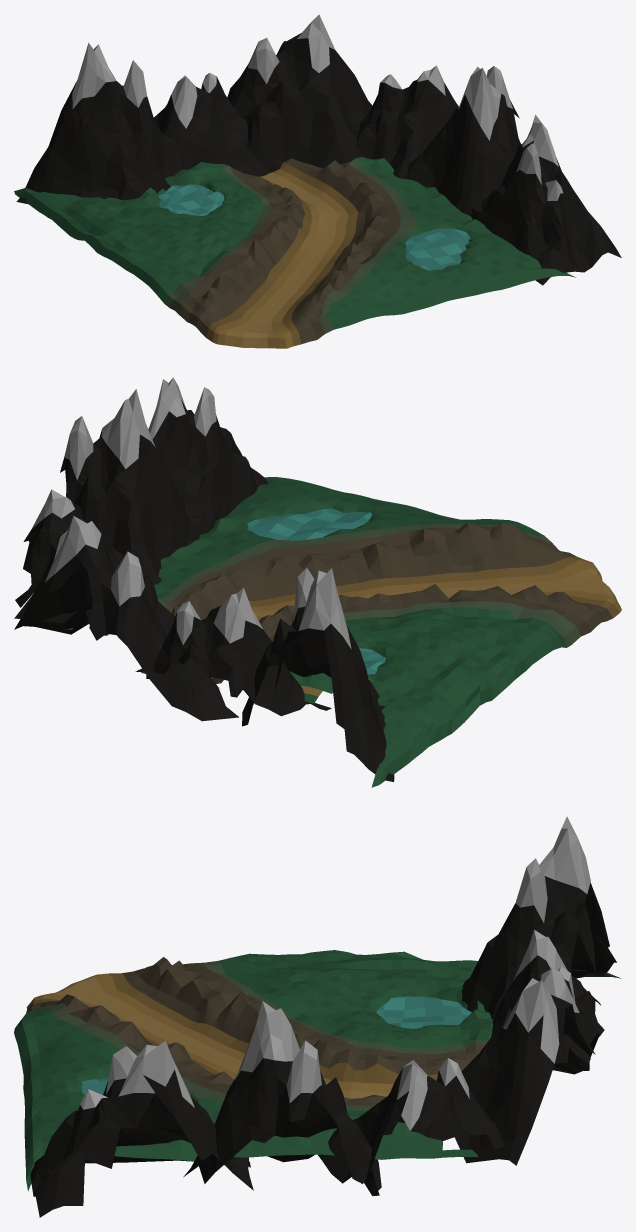
The model's file is lekker wereldjte.FBX.
The picture shows the model from 3 angles, top to bottom: view 1: azimuth 30°, elevation 25°; view 2: azimuth 150°, elevation 25°; view 3: azimuth 270°, elevation 25°; orthographic projection. The views are drawn at different scales.
Visible parts, largest first — view 1: Plane005-retopo 1-reduced1-retopo 1; view 2: Plane005-retopo 1-reduced1-retopo 1; view 3: Plane005-retopo 1-reduced1-retopo 1.
Part boxes in pixels (x1,y1,x2,y2): Plane005-retopo 1-reduced1-retopo 1: [14, 14, 621, 348]; Plane005-retopo 1-reduced1-retopo 1: [14, 377, 621, 787]; Plane005-retopo 1-reduced1-retopo 1: [14, 816, 621, 1217].
Bounding box in the file's own units: 633 × 241 × 651.
